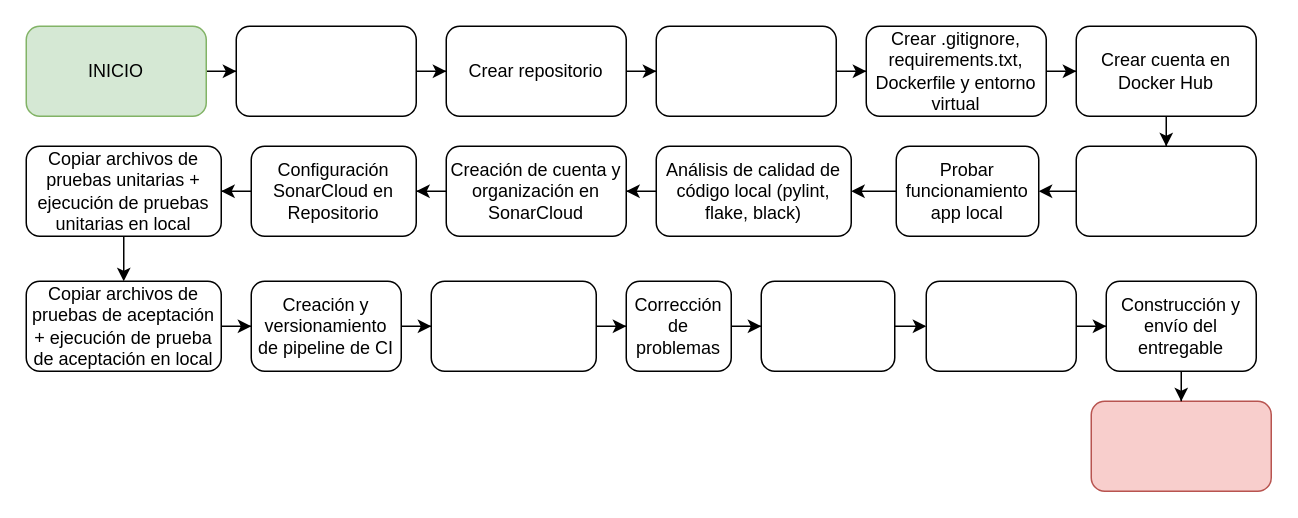
The diagram is 1298 pixels wide and 518 high, and some of its shapes have lost their labels. Each missing label, with the centre of its shape:
"Clonar repositorio" goes at pixel 745 70.
"Copiar archivos de la app (calculadora, app, __init__ y html)" goes at pixel 1165 190.
"FIN" goes at pixel 1180 445.
"Lectura introductoria y herramientas a usar" goes at pixel 325 70.
"Re ejecución correcta del pipeline" goes at pixel 827 325.
"Validación de ejecución y hallazgos en SonarCloud" goes at pixel 513 325.
"Validar imagen en DockerHub" goes at pixel 1000 325.
